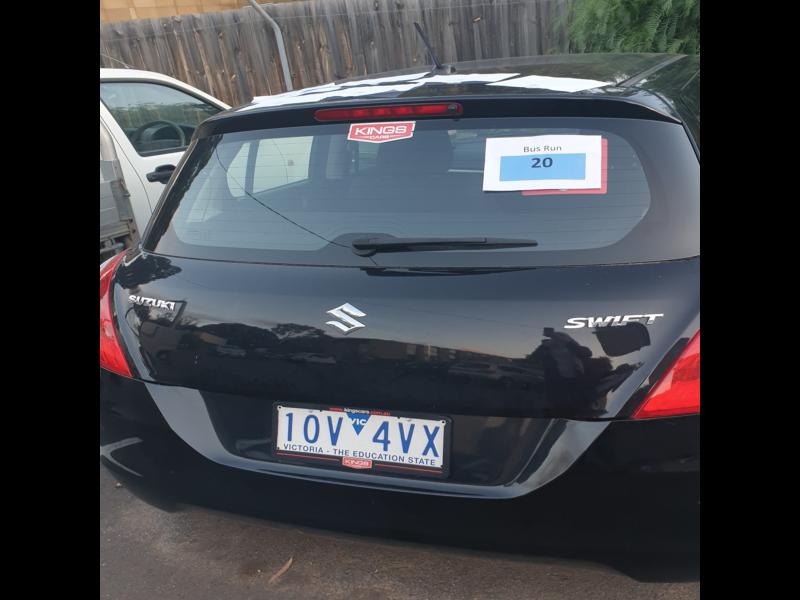BusRun: (500, 153, 586, 181)
PlateNo: (277, 406, 444, 468)
